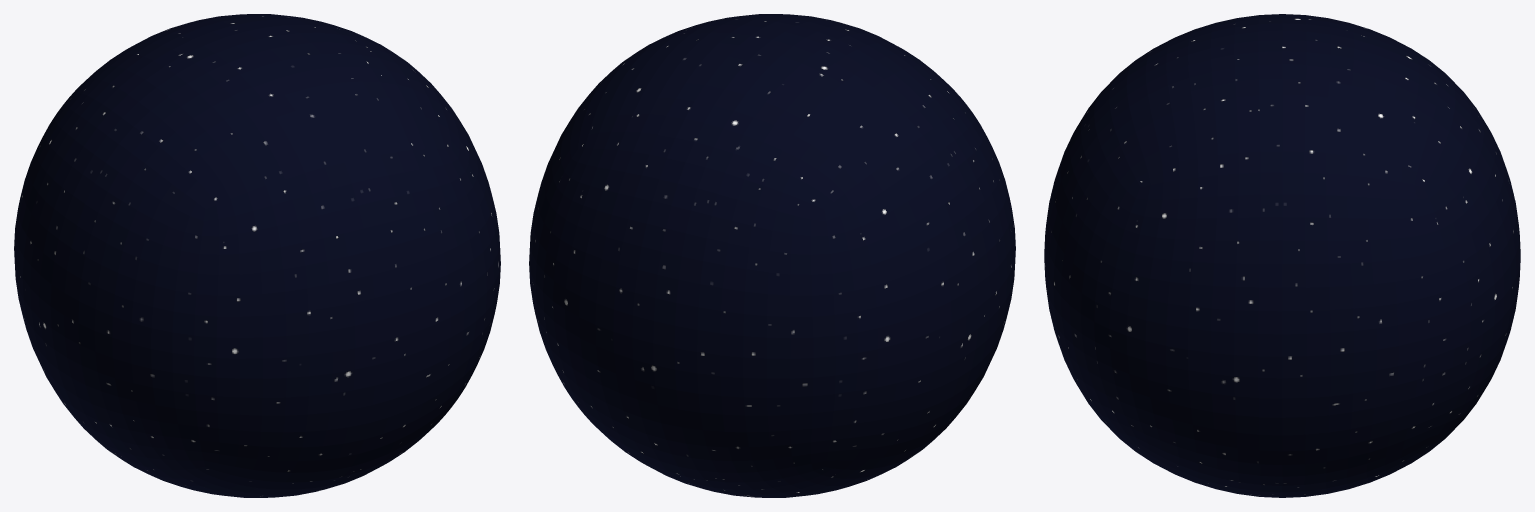
Rendered from skydome.obj.
3 renders of one model, left to right at view 1: azimuth 30°, elevation 25°; view 2: azimuth 150°, elevation 25°; view 3: azimuth 270°, elevation 25°, orthographic.
Parts seen in each view (by area): view 1: Cube; view 2: Cube; view 3: Cube.
Part boxes in pixels (<box>): Cube: <box>14,14,500,497</box>; Cube: <box>529,14,1015,497</box>; Cube: <box>1044,14,1520,497</box>.
Bounding box in the file's own units: 100 × 100 × 100.
Materials: 1 (1 with a texture image).
